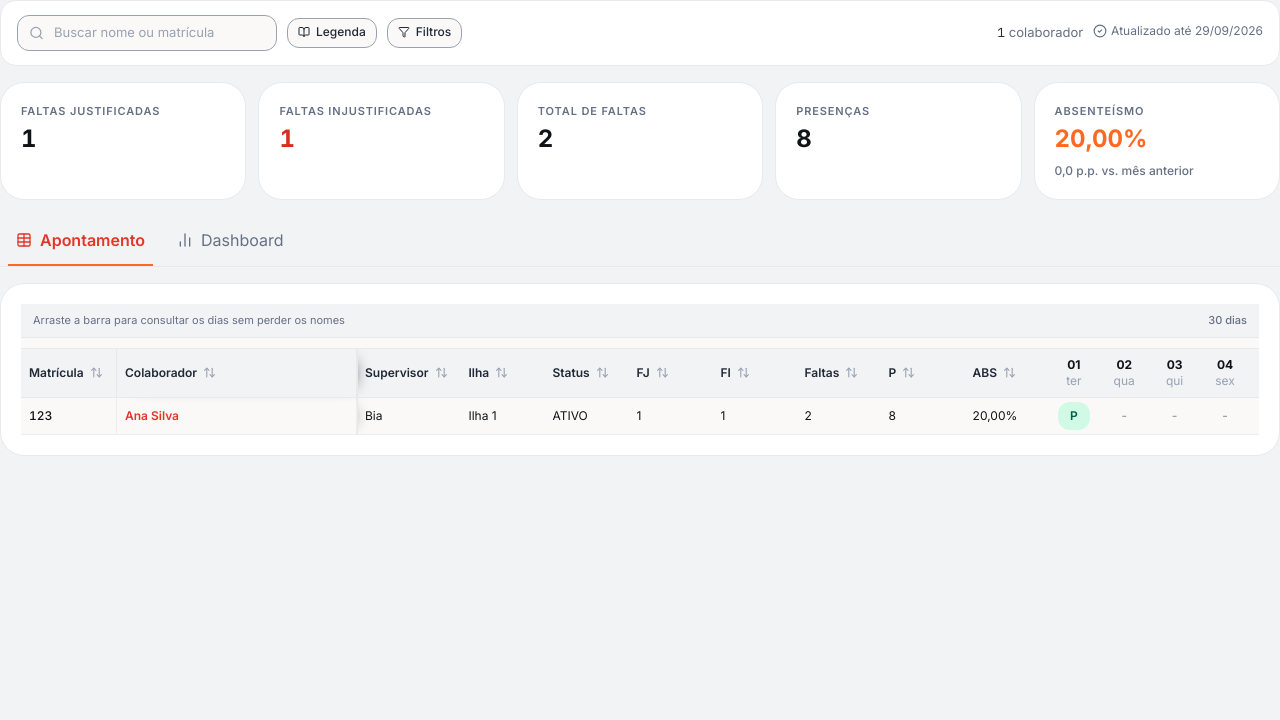
it: AbsPage › abre uma legenda visual para as nomenclaturas
The width and height of the screenshot is (1280, 720).
expect the text "Ana Silva" is shown: met, box [125,408,179,422]
Click the button "Legenda".
click(332, 33)  # box [287,18,377,48]
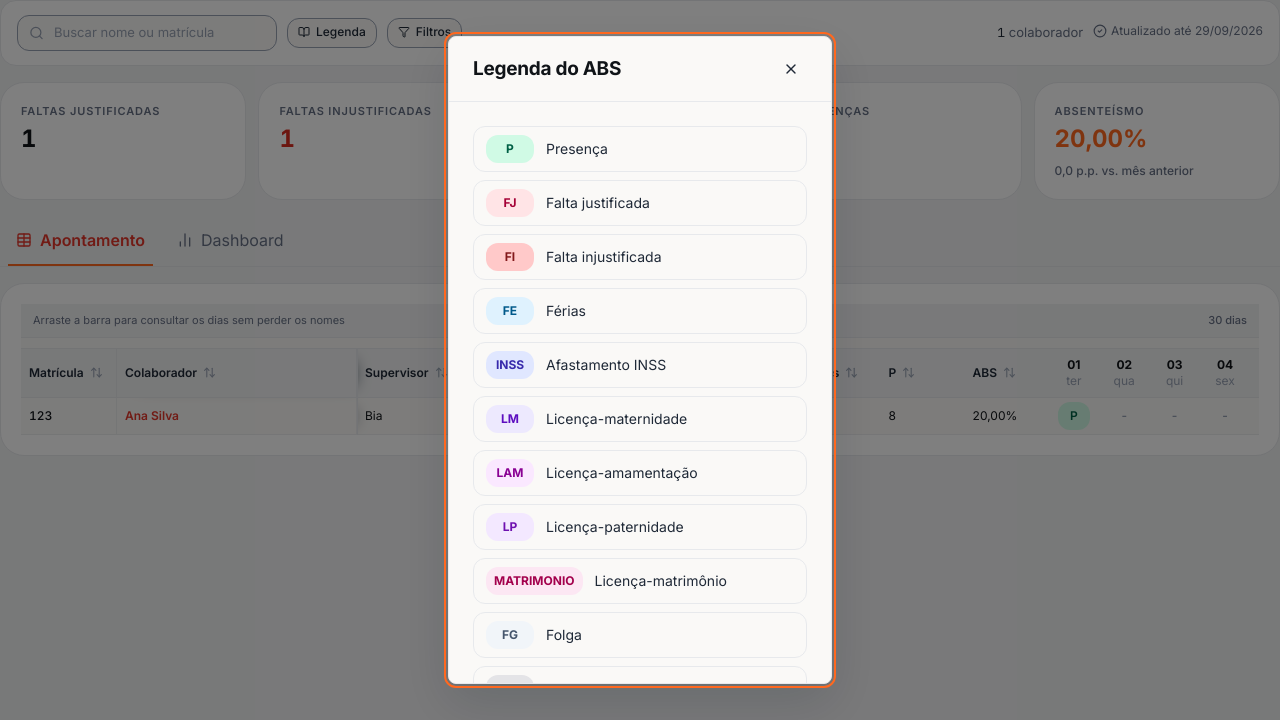
expect the dialog "Legenda do ABS" is shown: met, box [448,36,832,684]
expect the text "Presença" is shown: met, box [546,139,608,159]
expect the text "Falta justificada" is shown: met, box [546,193,650,213]
